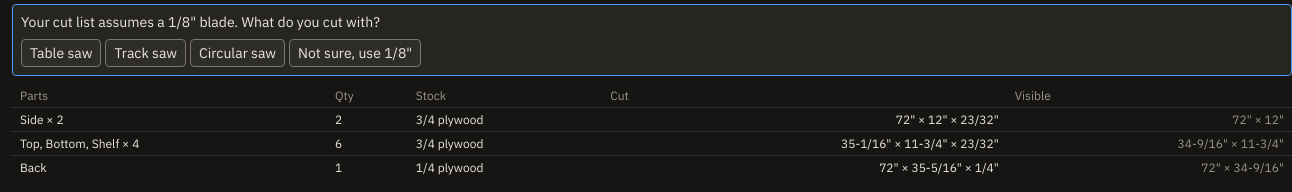
Test: <CutListTab> › keeps the answer, says it, and stops asking
Click the button "Circular saw". click: click(238, 53)
box: x1=190 y1=39 x2=285 y2=67
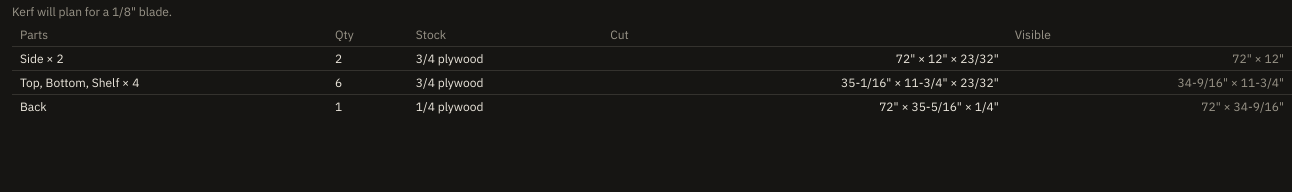
Expected: the text "Your cut list assumes a 1/8\" blade. What do you cut with?" is gone
Expected: the message reads "Kerf will plan for a 1/8\" blade.", x1=12 y1=4 x2=172 y2=19
